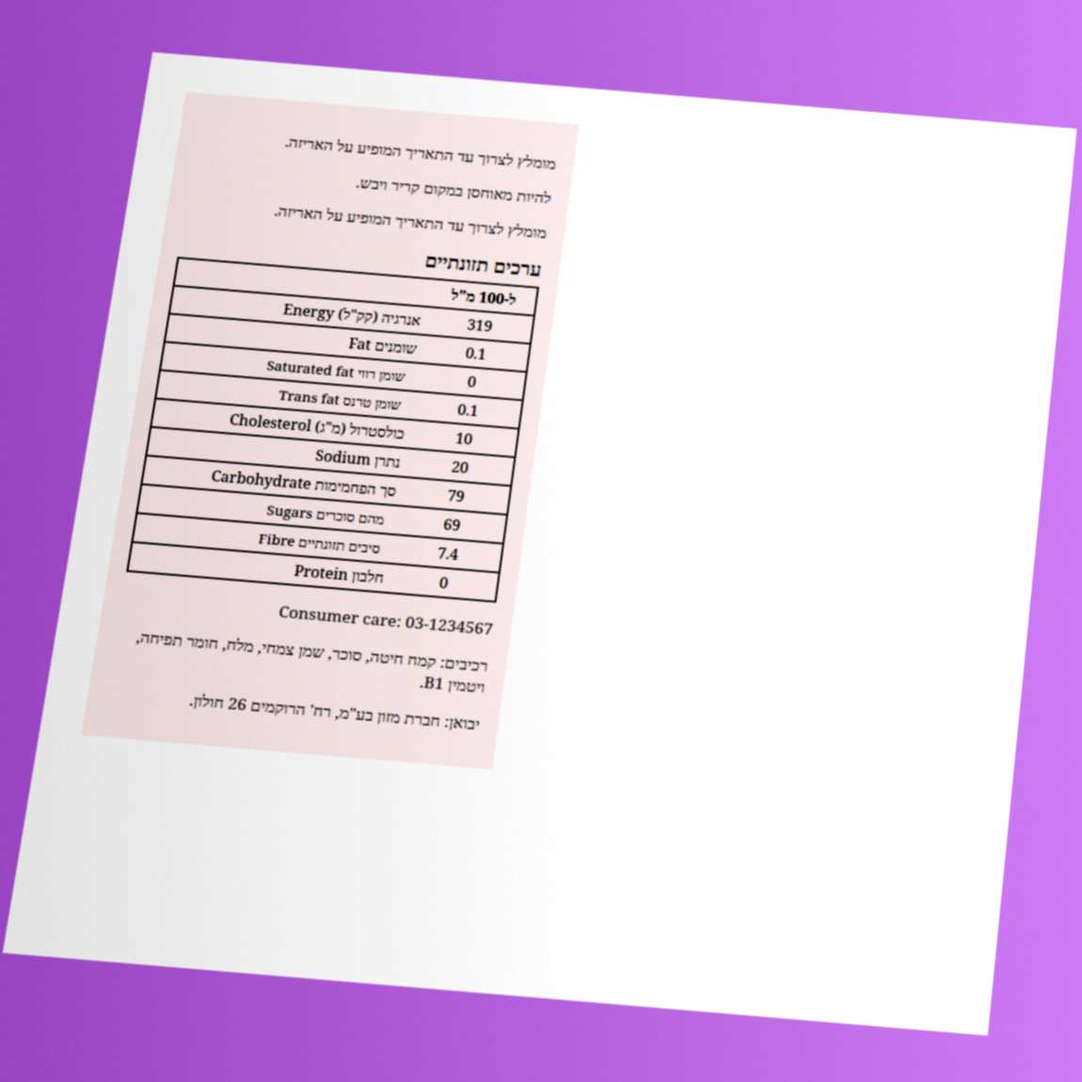carbs: (443, 483, 468, 509)
energy: (463, 312, 496, 339)
fat: (462, 340, 490, 367)
protein: (436, 570, 452, 596)
